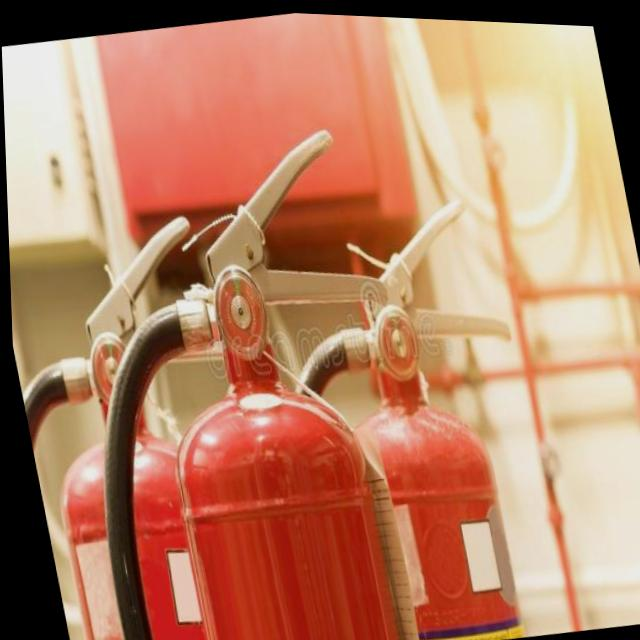FireExtinguisher: (19, 104, 454, 640), (222, 175, 568, 640), (6, 197, 283, 640)
